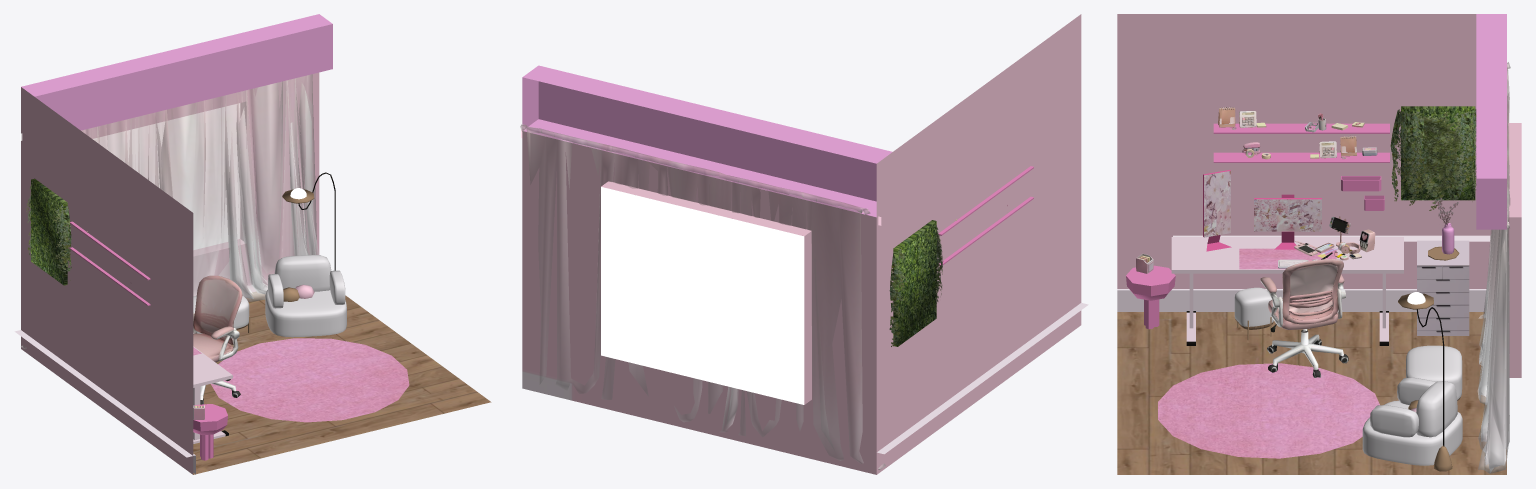
The model's file is room_level_3.glb.
3 views of the same model, side by side, from view 1: azimuth 30°, elevation 25°; view 2: azimuth 150°, elevation 25°; view 3: azimuth 270°, elevation 25° (orthographic). The views are drawn at different scales.
Parts seen in each view (by area): view 1: Cube, node_0, Cube.001, Cylinder, Cube.005, node_0.001, Cube.022, Cube.014, Cylinder.003, Cube.004, Cube.009; view 2: Cube.001, Cube, node_0, Cube.022, Cube.014; view 3: Cube, Cylinder, Cube.022, node_0, Cube.005, node_0.001, Cube.004, Cube.006, Cube.014, Cube.001, node_0.003, Cube.010 (+12 smaller).
Part boxes in pixels (bbox=[...]): Cube: bbox=[21, 14, 491, 474]; node_0: bbox=[21, 74, 318, 349]; Cube.001: bbox=[81, 72, 319, 295]; Cylinder: bbox=[211, 338, 409, 422]; Cube.005: bbox=[265, 255, 346, 337]; node_0.001: bbox=[193, 275, 242, 404]; Cube.022: bbox=[25, 178, 71, 285]; Cube.014: bbox=[14, 330, 195, 474]; Cylinder.003: bbox=[193, 404, 227, 460]; Cube.004: bbox=[193, 346, 232, 387]; Cube.009: bbox=[282, 172, 335, 270]; Cube.001: bbox=[522, 131, 876, 474]; Cube: bbox=[522, 14, 1081, 474]; node_0: bbox=[520, 124, 885, 469]; Cube.022: bbox=[889, 220, 943, 346]; Cube.014: bbox=[877, 303, 1088, 454]; Cube: bbox=[1117, 14, 1506, 474]; Cylinder: bbox=[1158, 363, 1379, 458]; Cube.022: bbox=[1390, 106, 1476, 210]; node_0: bbox=[1477, 62, 1510, 473]; Cube.005: bbox=[1362, 377, 1462, 465]; node_0.001: bbox=[1260, 259, 1348, 377]; Cube.004: bbox=[1171, 237, 1403, 273]; Cube.006: bbox=[1417, 240, 1469, 335]; Cube.014: bbox=[1117, 289, 1486, 311]; Cube.001: bbox=[1508, 123, 1521, 377]; node_0.003: bbox=[1136, 107, 1377, 273]; Cube.010: bbox=[1254, 198, 1321, 231].
Bounding box in the file's own units: 4.65 × 3.77 × 4.58.
Materials: 5 (3 with a texture image).
